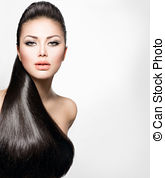face: (13, 4, 69, 86)
